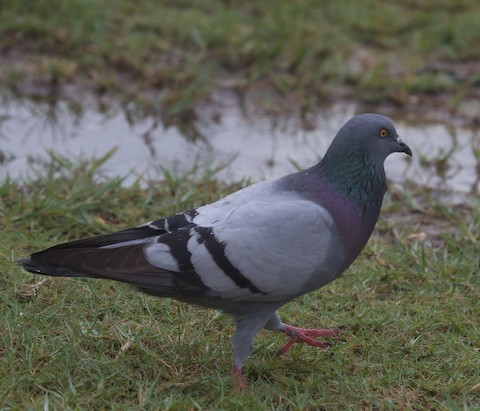pigeon: (10, 108, 416, 393)
